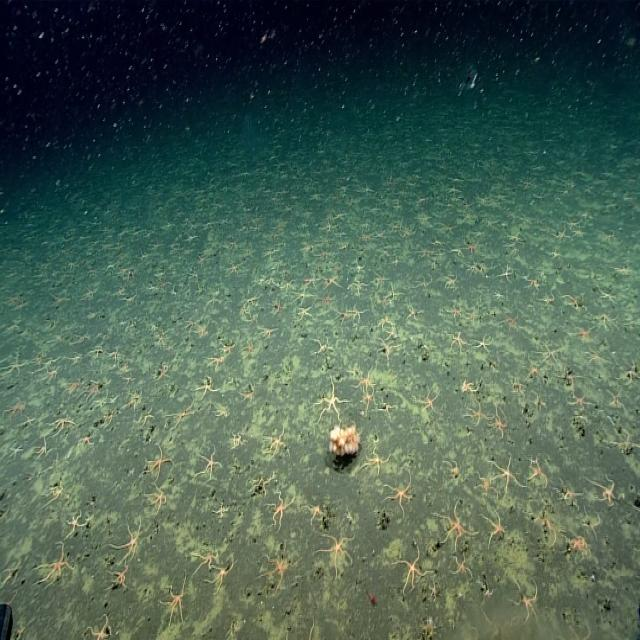brittle-stars: (506, 575, 539, 626), (437, 503, 474, 547), (258, 544, 292, 588), (39, 540, 71, 585), (313, 378, 343, 424), (394, 547, 424, 587), (161, 579, 188, 623), (266, 490, 296, 529), (386, 470, 415, 510), (320, 531, 352, 565), (489, 462, 520, 492), (588, 474, 616, 506), (208, 560, 236, 591), (145, 447, 172, 479), (167, 400, 197, 428), (482, 509, 507, 542), (565, 529, 589, 563), (191, 542, 219, 570), (119, 522, 142, 556), (199, 446, 222, 480), (526, 457, 549, 490), (363, 446, 385, 474), (538, 342, 562, 366), (88, 615, 111, 640), (450, 552, 472, 578), (418, 387, 440, 413), (303, 499, 324, 525), (68, 507, 86, 537), (490, 406, 508, 436), (1, 355, 26, 376), (465, 402, 486, 427), (586, 344, 606, 370), (268, 428, 287, 455), (45, 480, 67, 503), (147, 486, 168, 510), (50, 414, 74, 435), (357, 368, 376, 394), (476, 472, 494, 498), (109, 566, 130, 588), (572, 323, 592, 345), (500, 311, 520, 333), (377, 340, 400, 359), (598, 286, 617, 309), (449, 333, 469, 353), (205, 354, 225, 374), (568, 392, 588, 410), (359, 391, 378, 409), (406, 299, 420, 323), (474, 336, 492, 354), (200, 375, 216, 395), (348, 304, 364, 324), (36, 436, 50, 458), (79, 431, 95, 450), (8, 442, 24, 460), (461, 376, 477, 394), (372, 270, 388, 288), (242, 341, 257, 360), (304, 273, 321, 289), (499, 264, 513, 283), (449, 301, 462, 321), (293, 290, 313, 303), (156, 363, 169, 382), (296, 306, 313, 320), (260, 324, 275, 339), (378, 314, 394, 328), (323, 291, 335, 309), (223, 338, 236, 354), (196, 322, 210, 336), (149, 240, 163, 254), (428, 584, 439, 600), (227, 262, 238, 277), (120, 362, 129, 374)
